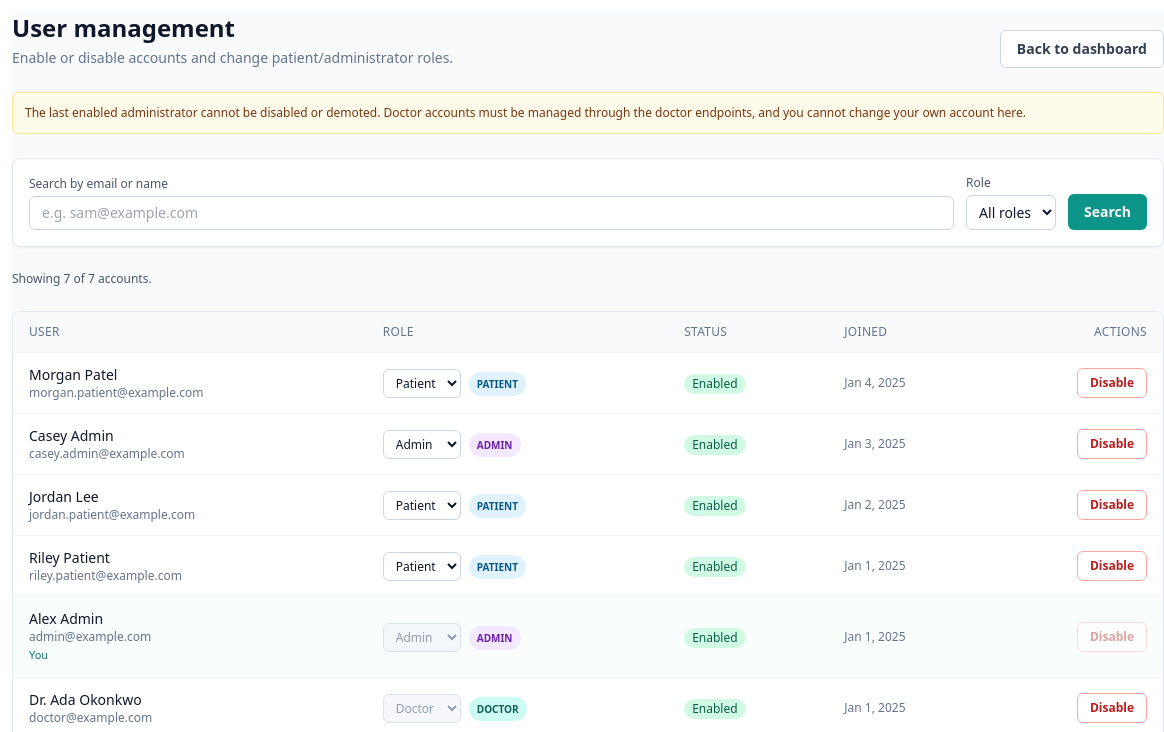
AdminUsersPage › disables an account and then offers to enable it again
The width and height of the screenshot is (1164, 732).
Click the button with aria-label "disable riley.patient@example.com" at (1112, 566), box [1077, 551, 1147, 581]
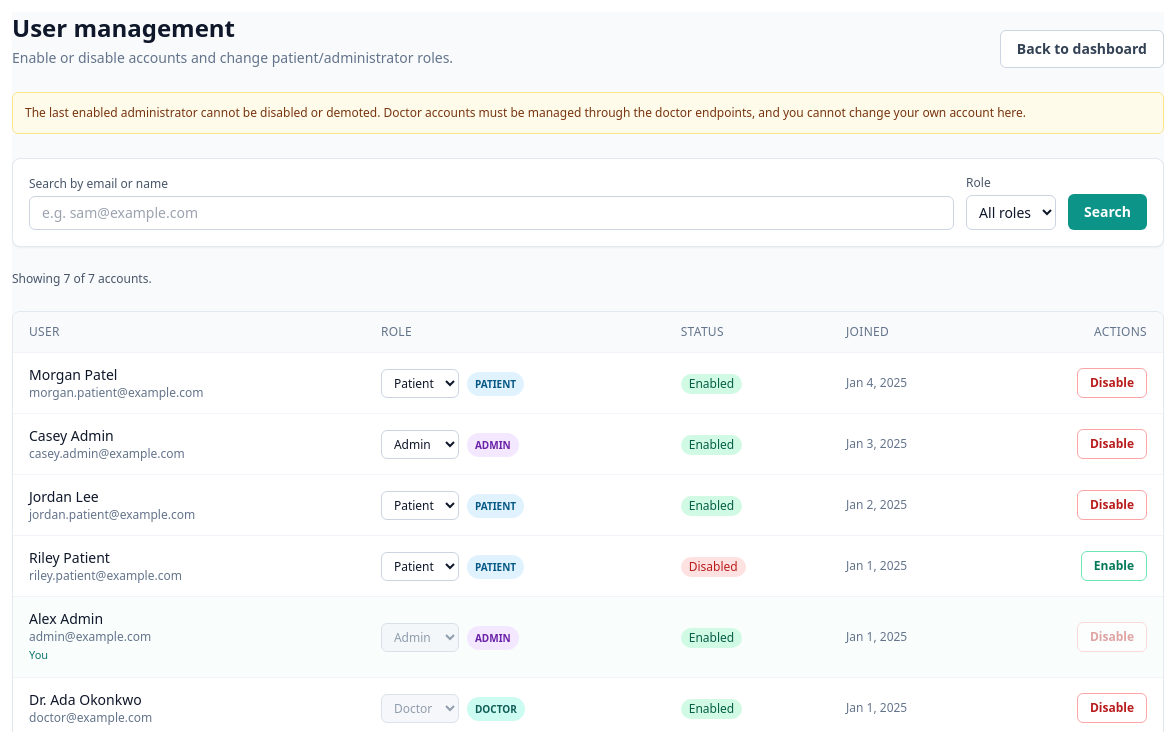
Expected: the button with aria-label "enable riley.patient@example.com" is shown, [1081, 551, 1147, 581]
